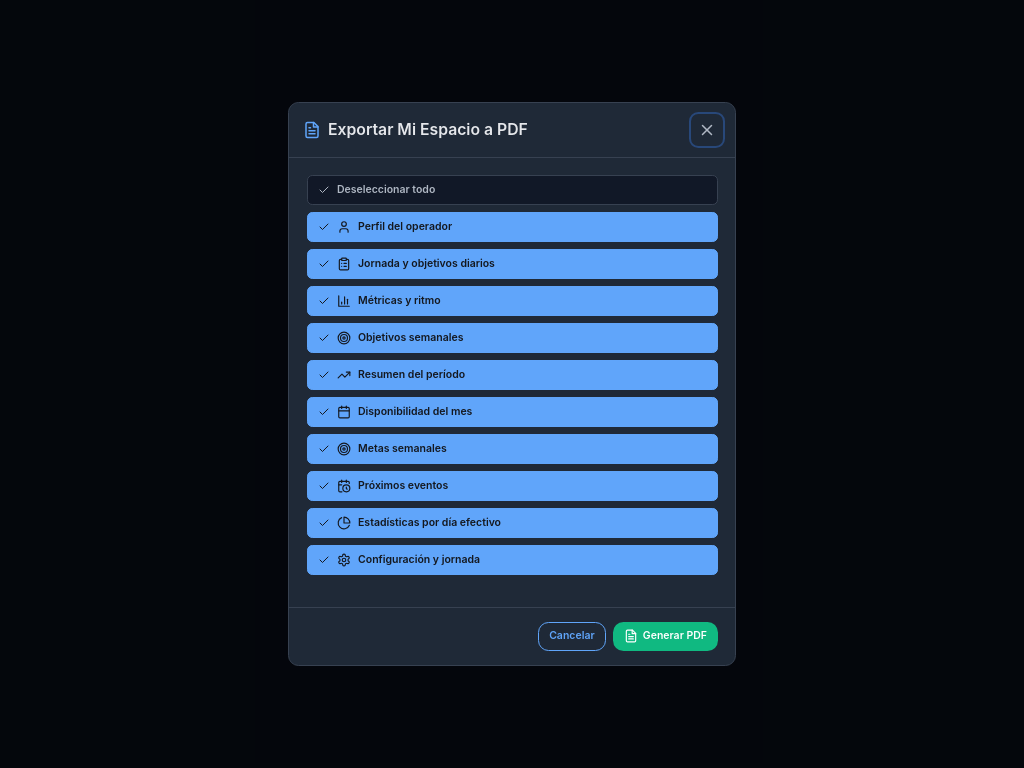
Test: PdfExportModal › selecciona todo al hacer click en Seleccionar todo
Click the button "Deseleccionar todo" at (386,190), box top-left (306, 175), bottom-right (718, 205)
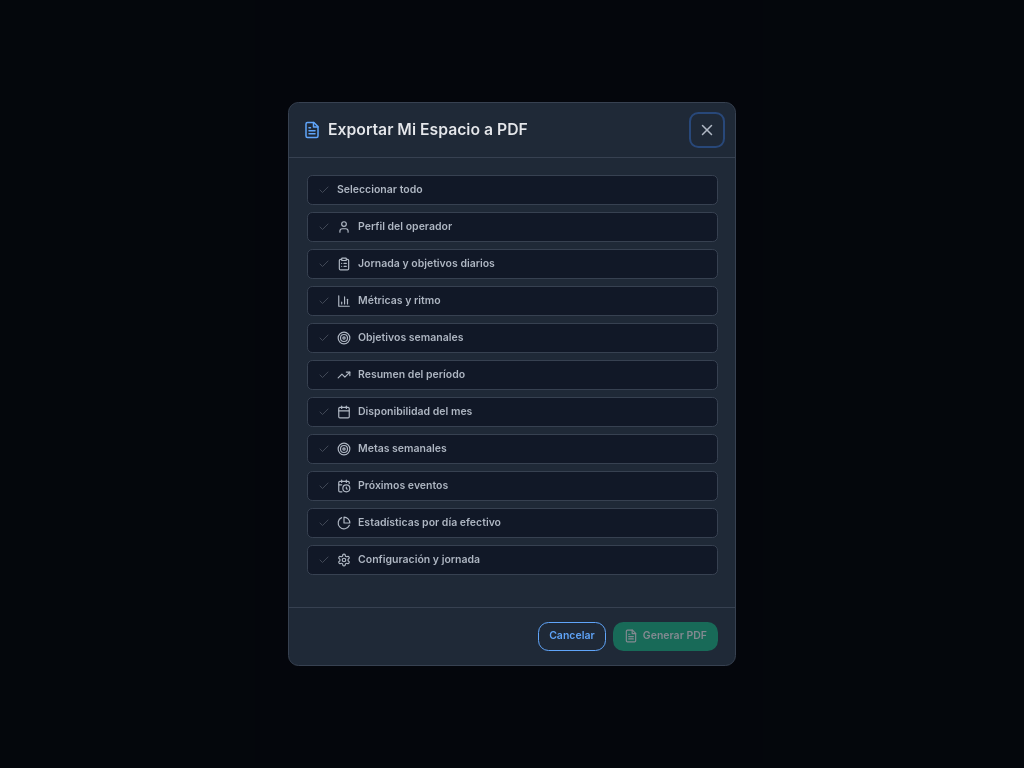
Click the button "Seleccionar todo" at (380,190), box top-left (306, 175), bottom-right (718, 205)
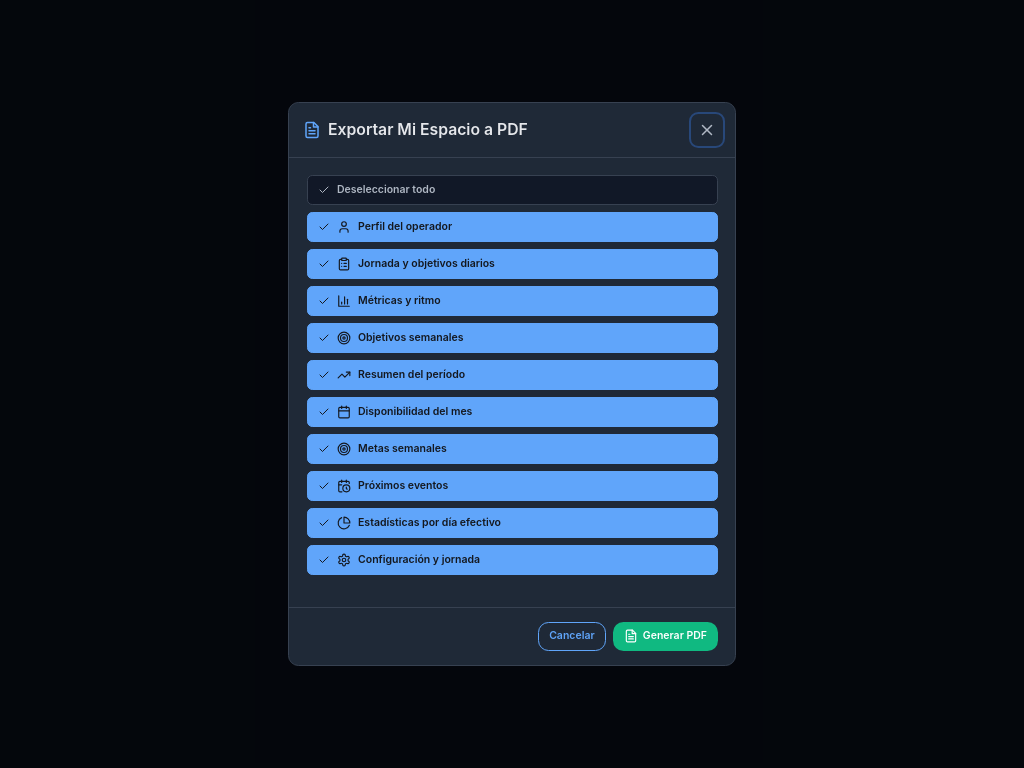
expect the button "Deseleccionar todo" is shown: met, box top-left (306, 175), bottom-right (718, 205)
